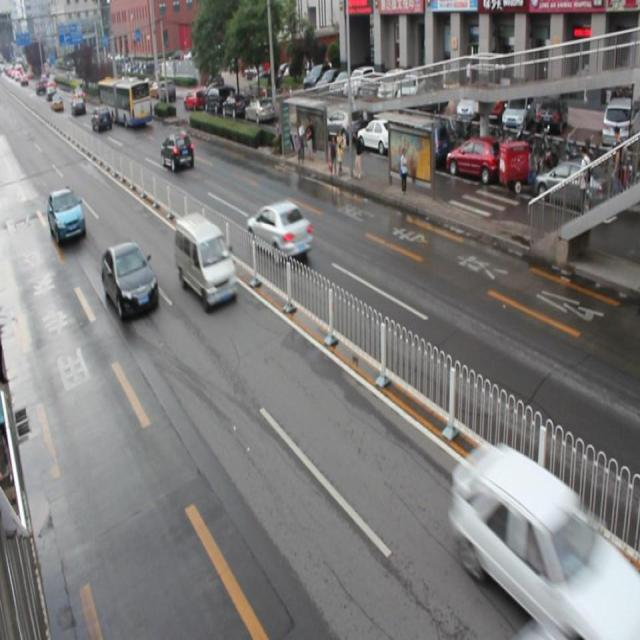car: (450, 441, 640, 640), (101, 240, 158, 318), (245, 200, 313, 260), (47, 188, 86, 245), (159, 130, 194, 173)
truck: (174, 212, 238, 308)
